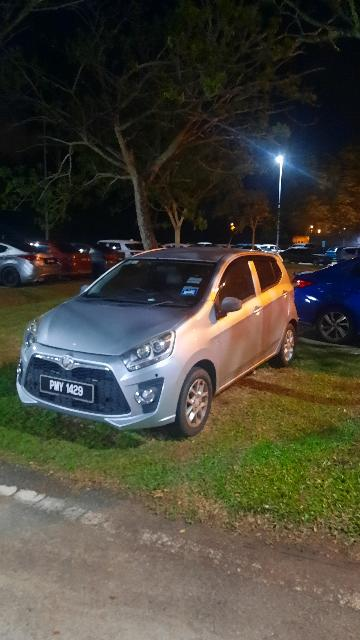License_Plate: (35, 372, 98, 408)
car: (15, 242, 301, 439)
